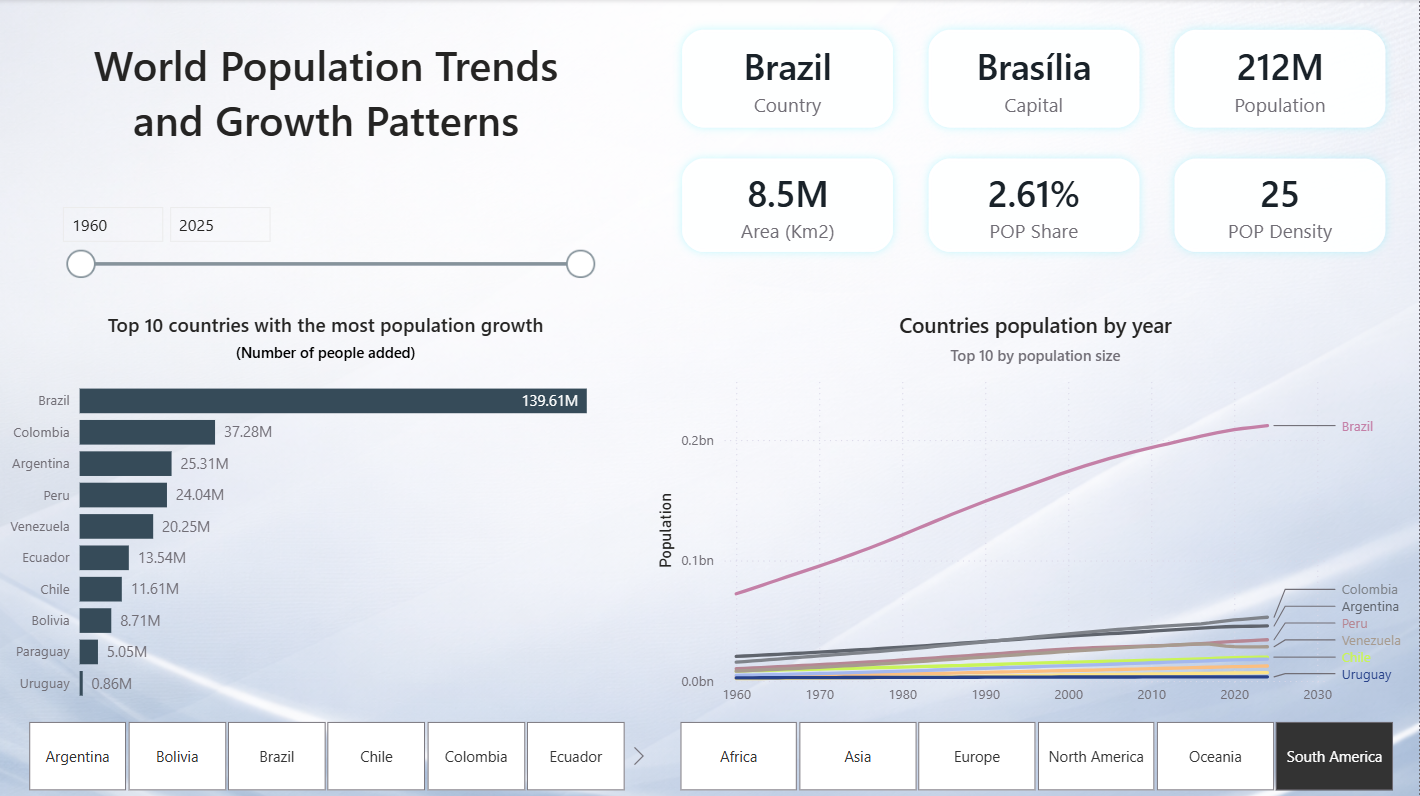

The dashboard page shown, as its layout file describes it:
{"tool":"powerbi","page":{"name":"Population","canvas":[1280,720],"ordinal":0},"visuals":[{"type":"slicer","fields":{"Values":["world_population dim_countries.country_name"]},"box":[0,644.4,587.1,75.9],"z":0},{"type":"lineChart","title":"Countries population by year","fields":{"Y":["Sum(world_population fact_population.population_count)"],"Series":["world_population dim_countries.country_name"],"Category":["world_population fact_population.year_record"]},"box":[587.1,272.4,692.9,371.9],"z":1000},{"type":"slicer","fields":{"Values":["world_population dim_countries.continent"]},"box":[587.1,644.4,692.9,75.9],"z":2000},{"type":"slicer","fields":{"Values":["world_population dim_year.year_record"]},"box":[43.5,172.9,500.1,83.3],"z":3000},{"type":"clusteredBarChart","title":"Top 10 countries with the most population growth","fields":{"Category":["world_population dim_countries.country_name"],"Y":["_Measures_.Most_population_added"]},"box":[0,272.4,587.1,371.9],"z":4000},{"type":"textbox","box":[43.5,29.9,500.1,114.4],"z":5000},{"type":"cardVisual","fields":{"Data":["_Measures_.Top Country Area","_Measures_.Top Country Share","_Measures_.Top Country Density"]},"box":[587.1,115.7,692.9,140.6],"z":6000},{"type":"cardVisual","fields":{"Data":["_Measures_.Top Country","_Measures_.Top Country Capital","_Measures_.Top Country Population"]},"box":[587.1,0,692.9,144.3],"z":7000}]}

Visuals, with their boxes in screenshot pixels (x1, y1, x2, y2), scaled from the page's 1280x720 canvas onto the 1420x796 screenshot:
slicer - world_population dim_countries.country_name: 0, 712, 651, 795
"Countries population by year" lineChart: 651, 301, 1419, 712
slicer - world_population dim_countries.continent: 651, 712, 1419, 795
slicer - world_population dim_year.year_record: 48, 191, 603, 283
"Top 10 countries with the most population growth" clusteredBarChart: 0, 301, 651, 712
textbox: 48, 33, 603, 160
cardVisual - _Measures_.Top Country Area x _Measures_.Top Country Share: 651, 128, 1419, 283
cardVisual - _Measures_.Top Country x _Measures_.Top Country Capital: 651, 0, 1419, 160
